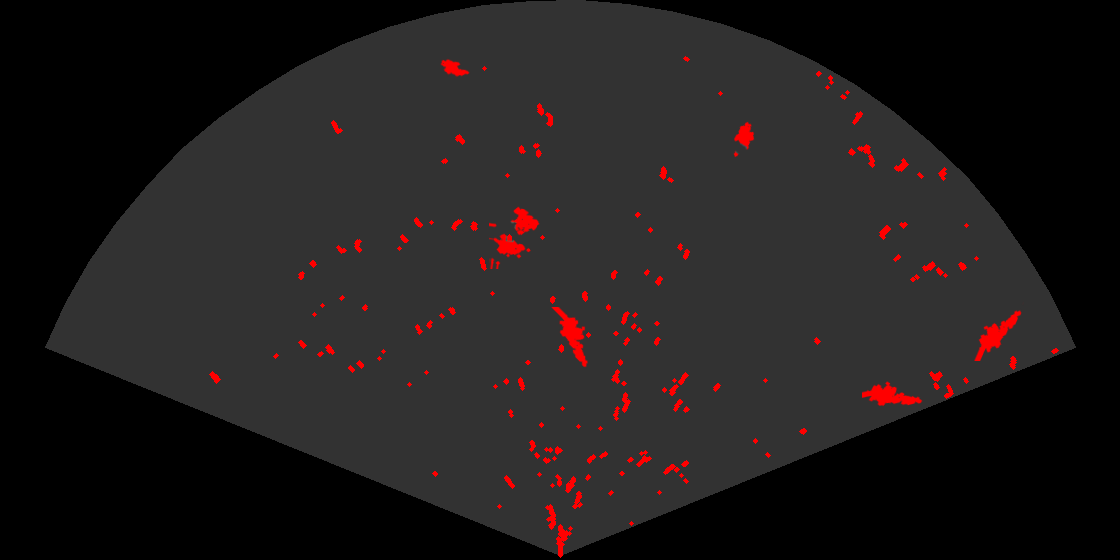AUV: (732, 120, 756, 159), (439, 57, 471, 79)
cage: (489, 205, 541, 269)
frogman: (973, 301, 1024, 361), (550, 307, 590, 369), (862, 380, 923, 408)
